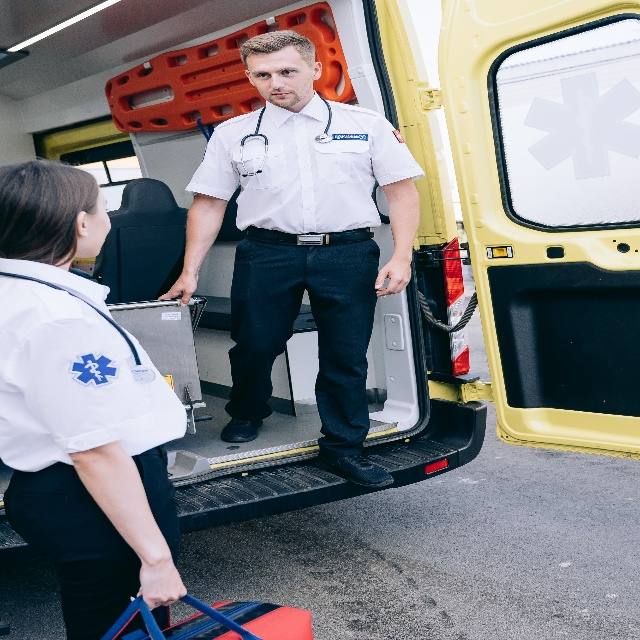Sin_guantes: (137, 551, 183, 611), (376, 260, 410, 302), (158, 272, 199, 304)
